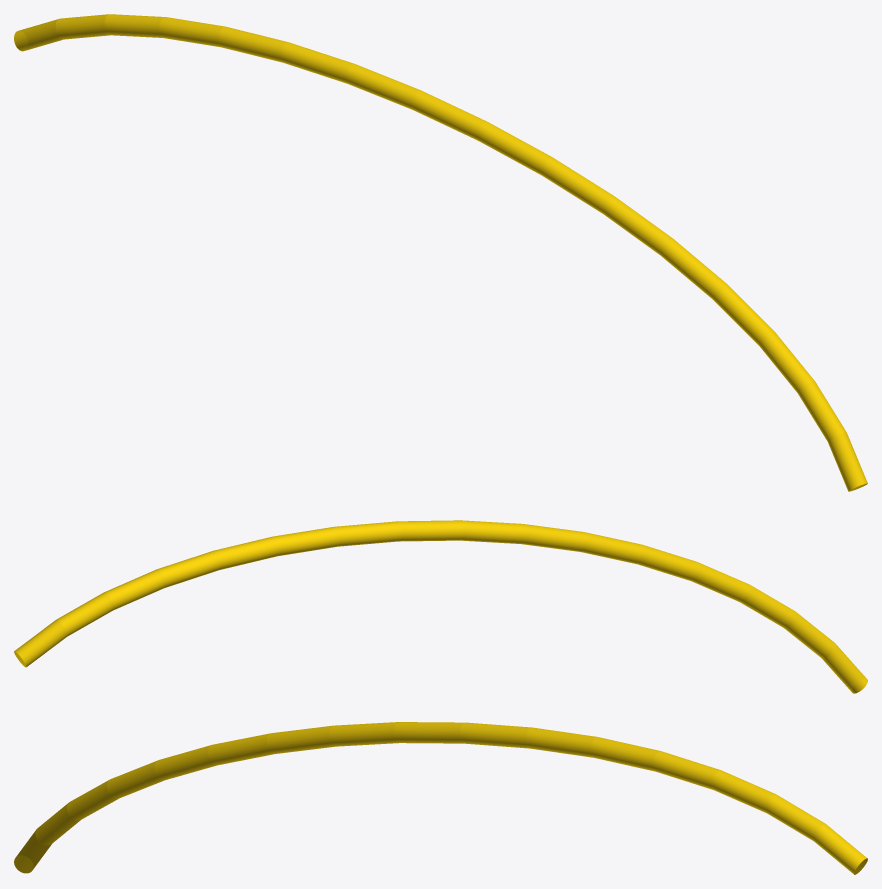
Rendered from Event_420094457_track_69.fbx.
3 views of the same model, one above another, from view 1: azimuth 90°, elevation 25°; view 2: azimuth 150°, elevation 25°; view 3: azimuth 270°, elevation 25° (orthographic). The views are drawn at different scales.
Visible parts, largest first — view 1: Model; view 2: Model; view 3: Model.
Part boxes in pixels (x1,y1,x2,y2): Model: (14,14,867,491); Model: (14,520,867,693); Model: (14,722,867,874).
Size of the model in its own units: 1.03 by 0.6066 by 1.61.
